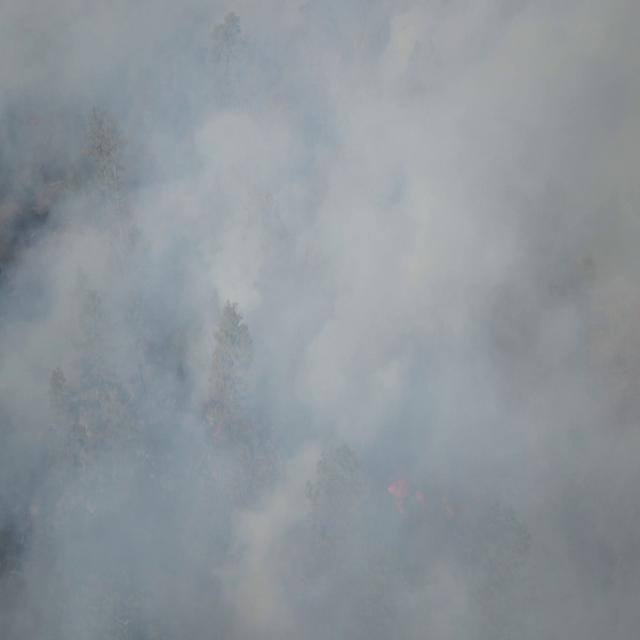fire: (385, 478, 425, 514), (437, 486, 460, 522), (25, 109, 42, 131)
smoke: (0, 0, 640, 640)
